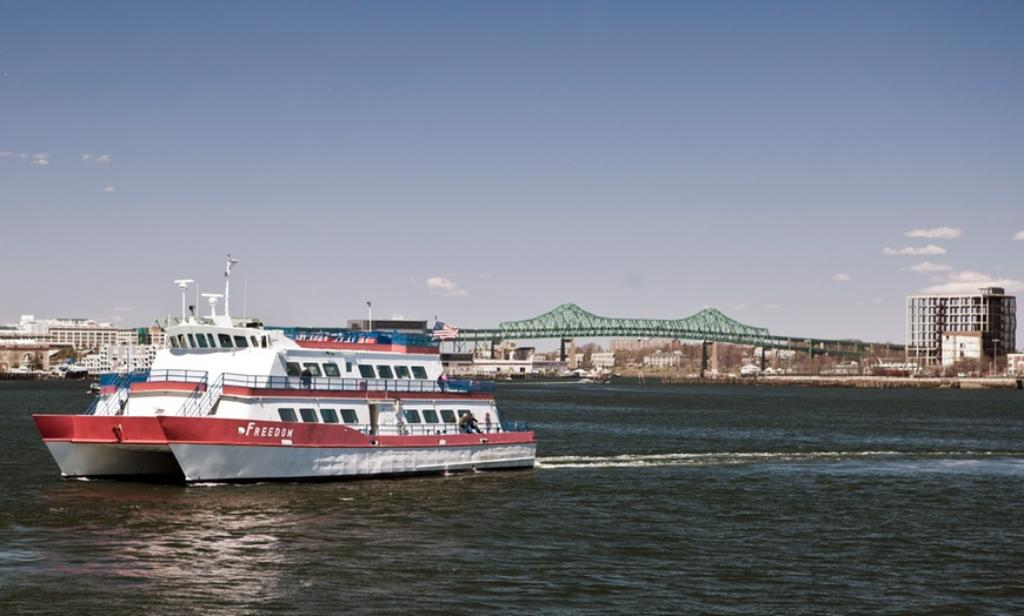PassengerShip: (24, 262, 544, 488)
